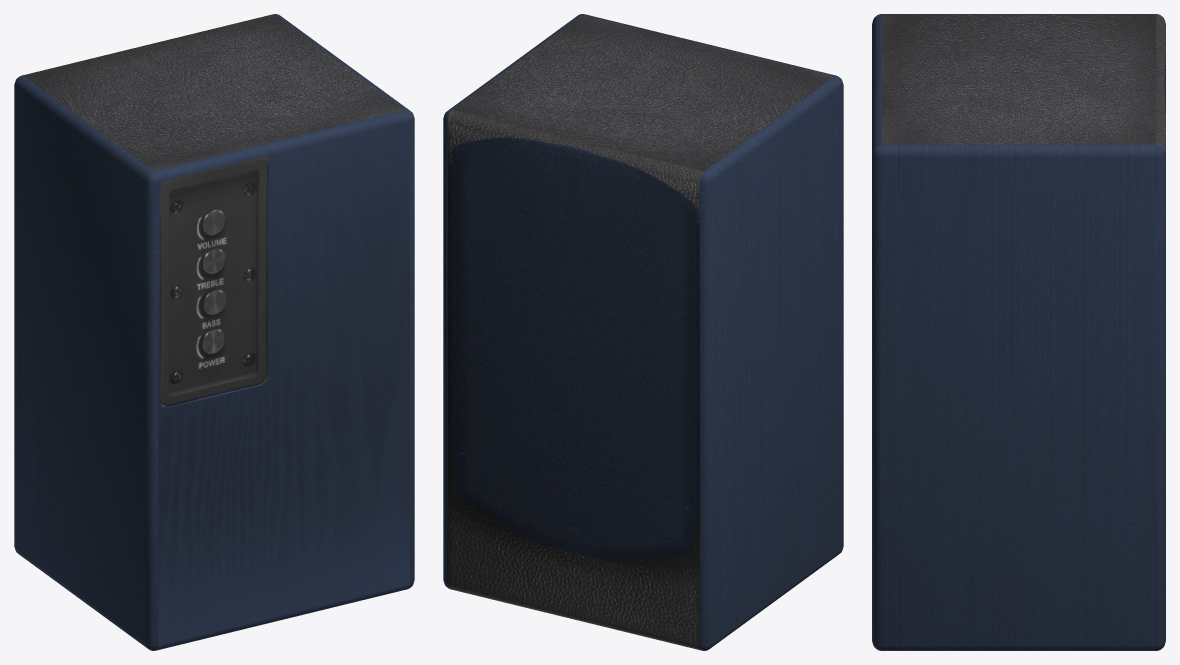
The model's file is Loudspeaker02b.FBX.
3 views of the same model, side by side, from view 1: azimuth 30°, elevation 25°; view 2: azimuth 150°, elevation 25°; view 3: azimuth 270°, elevation 25° (orthographic). The views are drawn at different scales.
Visible parts, largest first — view 1: Loudspeaker02b; view 2: Loudspeaker02b; view 3: Loudspeaker02b.
Part boxes in pixels (x1,y1,x2,y2): Loudspeaker02b: (14,14,414,650); Loudspeaker02b: (443,14,843,650); Loudspeaker02b: (872,14,1165,650).
Bounding box in the file's own units: 13.78 × 23.55 × 12.4.
